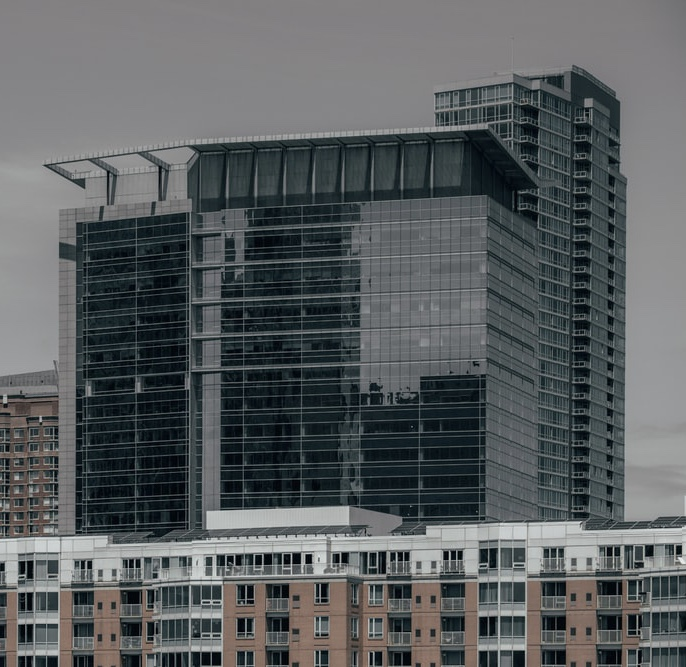Sky Building: (47, 71, 634, 535)
